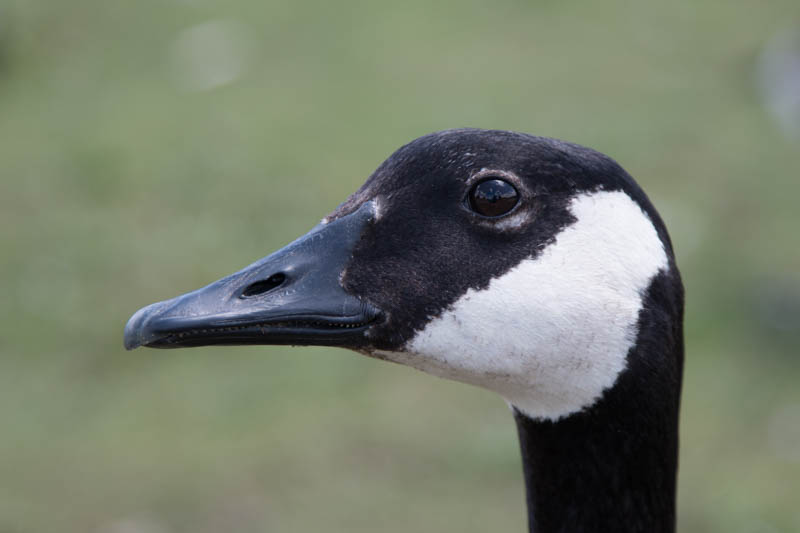goose-head: (122, 129, 685, 420)
